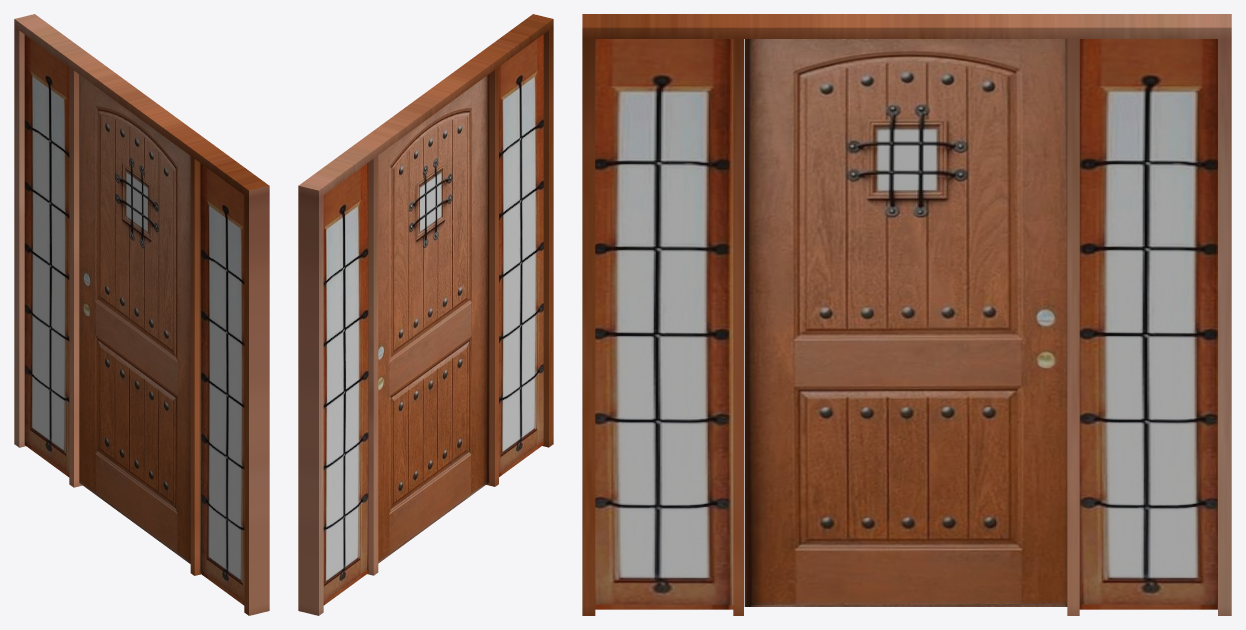
Rendered from DoubleDeluxDoor1.9a1b9e49.gltf.
3 renders of one model, left to right at view 1: azimuth 30°, elevation 25°; view 2: azimuth 150°, elevation 25°; view 3: azimuth 270°, elevation 25°, orthographic. The views are drawn at different scales.
Visible parts, largest first — view 1: Plane.001, Plane, Plane.002, Plane.003; view 2: Plane.001, Plane, Plane.003, Plane.002; view 3: Plane.001, Plane.002, Plane.003, Plane.
Part boxes in pixels (box(x1,y1,x2,y2)): Plane.001: box(79, 74, 190, 563); Plane: box(14, 14, 269, 615); Plane.002: box(199, 163, 244, 605); Plane.003: box(24, 35, 69, 477); Plane.001: box(378, 74, 489, 563); Plane: box(298, 14, 553, 615); Plane.003: box(323, 162, 368, 605); Plane.002: box(499, 34, 543, 476); Plane.001: box(744, 39, 1067, 606); Plane.002: box(595, 39, 733, 609); Plane.003: box(1079, 39, 1217, 609); Plane: box(582, 14, 1231, 615).
Size of the model in its own units: 0.3013 by 6 by 6.
4 materials, 4 textured.
